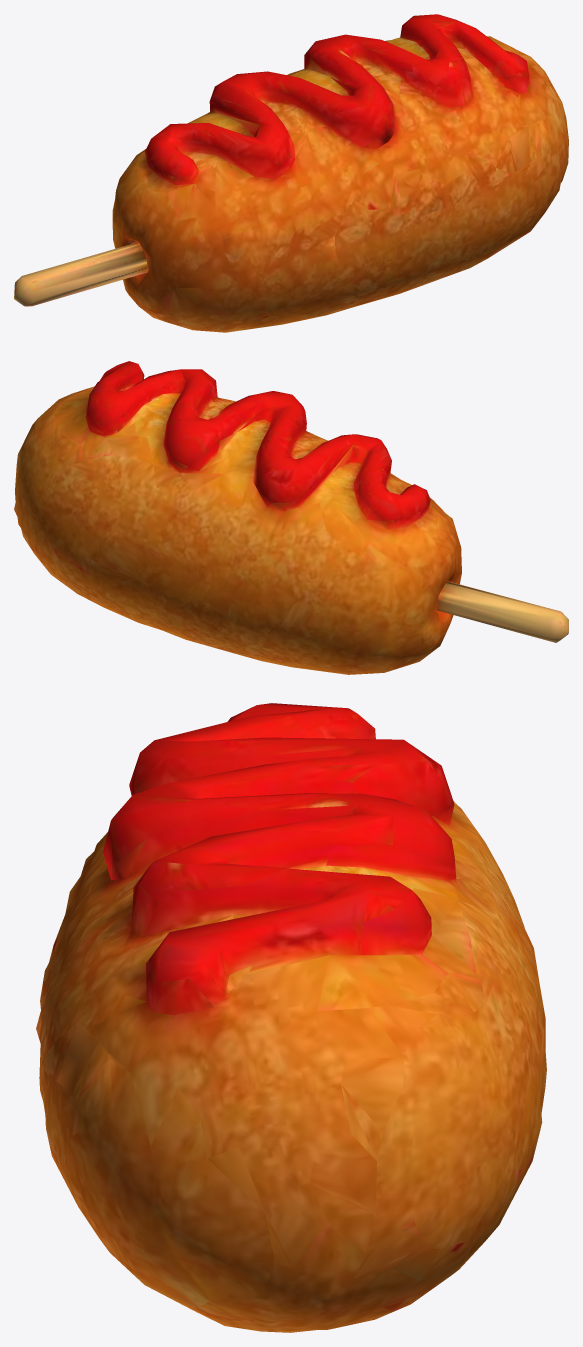
3 renders of one model, top to bottom at view 1: azimuth 30°, elevation 25°; view 2: azimuth 150°, elevation 25°; view 3: azimuth 270°, elevation 25°, orthographic. The views are drawn at different scales.
Parts seen in each view (by area): view 1: hotdog; view 2: hotdog; view 3: hotdog.
Boxes of the visible parts, <box> form: hotdog: <box>14,14,568,332</box>; hotdog: <box>14,361,568,674</box>; hotdog: <box>36,703,546,1332</box>.
Size of the model in its own units: 0.2204 by 0.0934 by 0.0914.
Materials: 1 (1 with a texture image).
